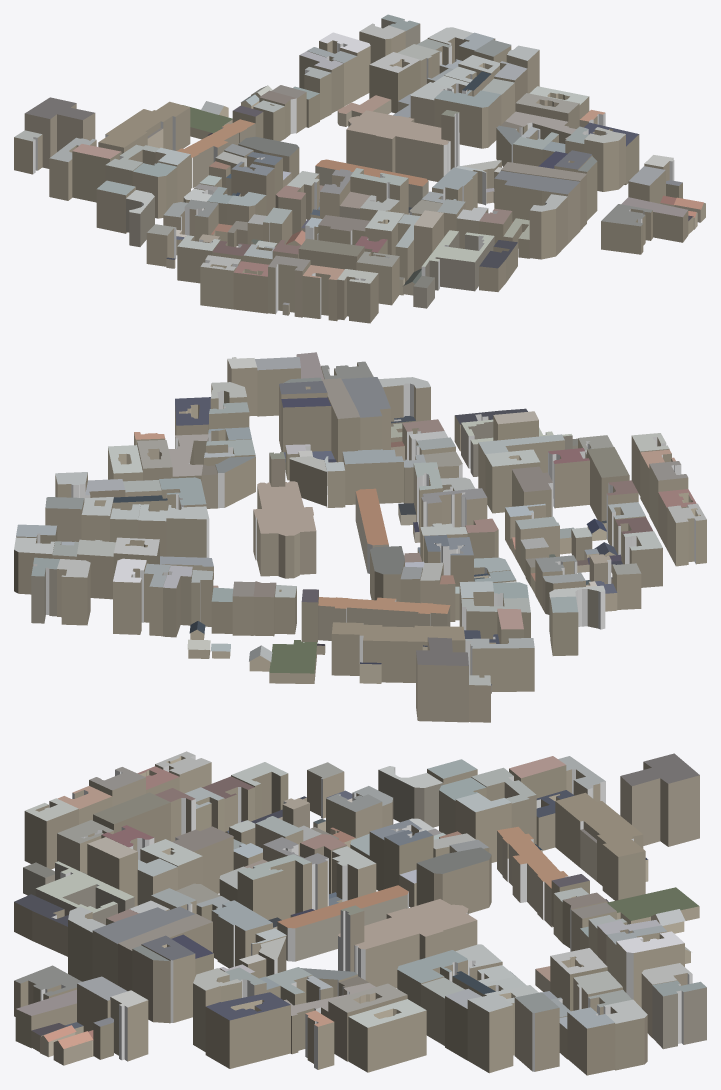
3 renders of one model, top to bottom at view 1: azimuth 30°, elevation 25°; view 2: azimuth 150°, elevation 25°; view 3: azimuth 270°, elevation 25°, orthographic. The views are drawn at different scales.
Parts seen in each view (by area): view 1: tuile; view 2: tuile; view 3: tuile.
Boxes of the visible parts, bbox=[...] form: tuile: bbox=[14, 14, 705, 323]; tuile: bbox=[14, 352, 706, 722]; tuile: bbox=[14, 751, 706, 1075].
Bounding box in the file's own units: 261 × 38.45 × 270.
